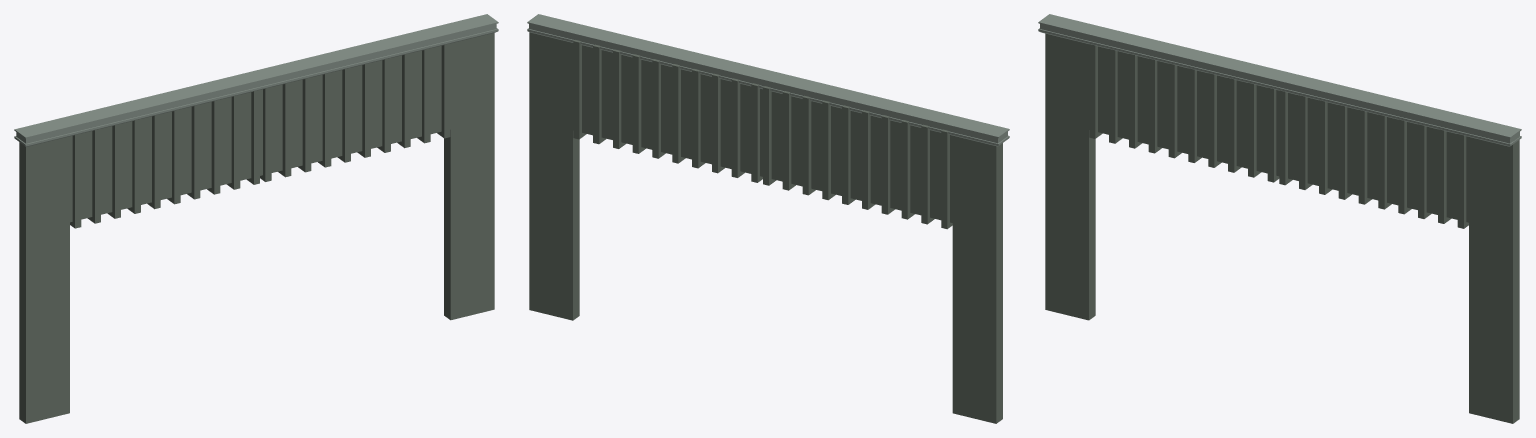
File: SM_garage_entry_02.fbx
The picture shows the model from 3 angles, left to right: view 1: azimuth 30°, elevation 25°; view 2: azimuth 150°, elevation 25°; view 3: azimuth 330°, elevation 25°; orthographic projection.
Parts seen in each view (by area): view 1: garage_entry_02; view 2: garage_entry_02; view 3: garage_entry_02.
Part boxes in pixels (x1=…): garage_entry_02: x1=14, y1=14, x2=498, y2=423; garage_entry_02: x1=527, y1=14, x2=1009, y2=423; garage_entry_02: x1=1038, y1=14, x2=1521, y2=423.
Bounding box in the file's own units: 754 × 441 × 34.29.
